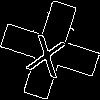X: (25, 25, 71, 79)
